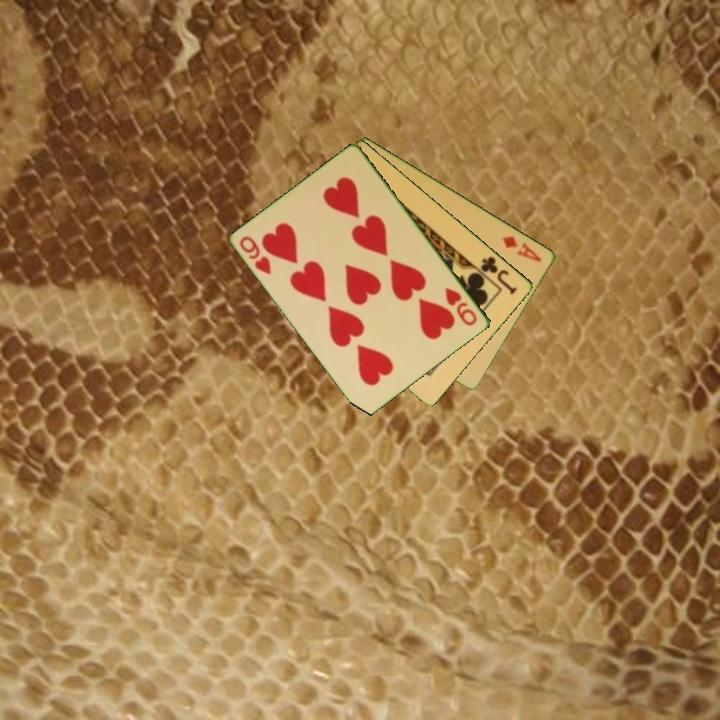9h: (236, 232, 275, 278), (442, 284, 481, 329)
Ad: (499, 232, 545, 265)
Jc: (477, 253, 521, 297)
